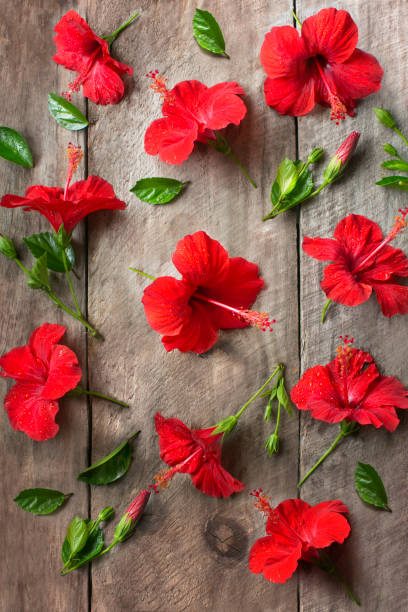Hibiscus: (137, 229, 280, 352), (4, 322, 133, 448), (238, 491, 372, 599), (255, 17, 381, 129), (290, 339, 404, 460), (295, 209, 408, 325), (141, 65, 260, 174), (12, 145, 123, 252), (157, 397, 260, 502), (43, 6, 153, 100), (106, 479, 170, 569), (310, 125, 380, 196)
